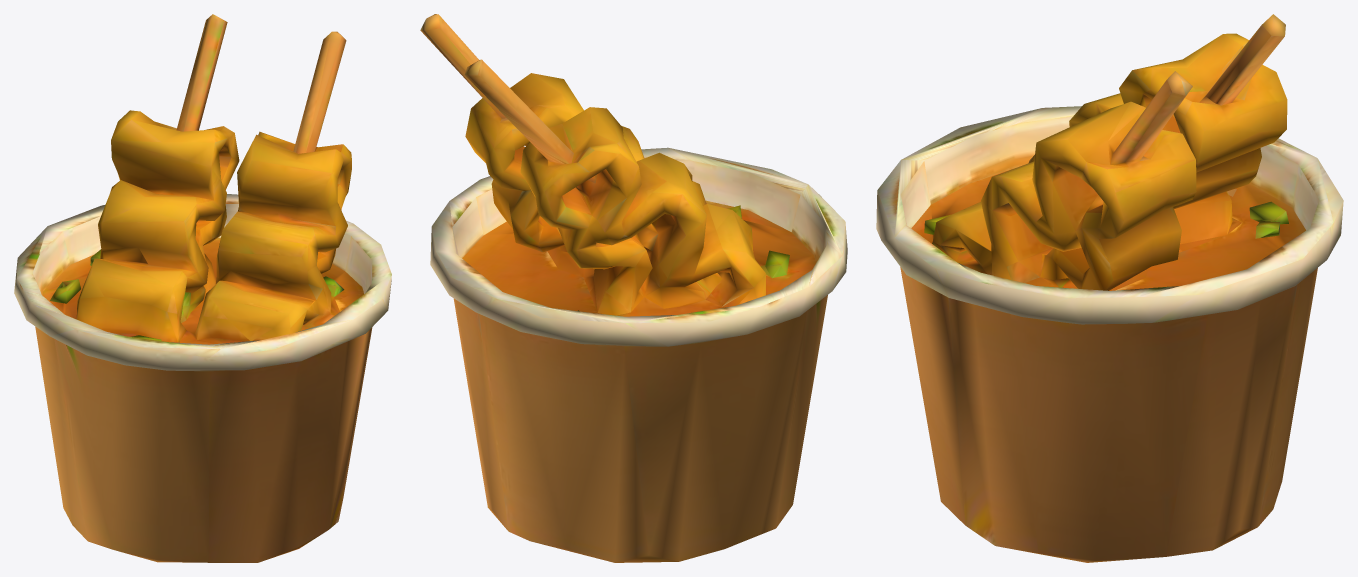
The picture shows the model from 3 angles, left to right: view 1: azimuth 30°, elevation 25°; view 2: azimuth 150°, elevation 25°; view 3: azimuth 270°, elevation 25°; orthographic projection. The views are drawn at different scales.
Visible parts, largest first — view 1: eomuk; view 2: eomuk; view 3: eomuk.
Boxes of the visible parts, x1,y1,x2,y2 form: eomuk: [14, 14, 391, 562]; eomuk: [420, 14, 847, 562]; eomuk: [876, 14, 1343, 562].
Bounding box in the file's own units: 0.1465 × 0.1804 × 0.1453.
1 material, 1 textured.
